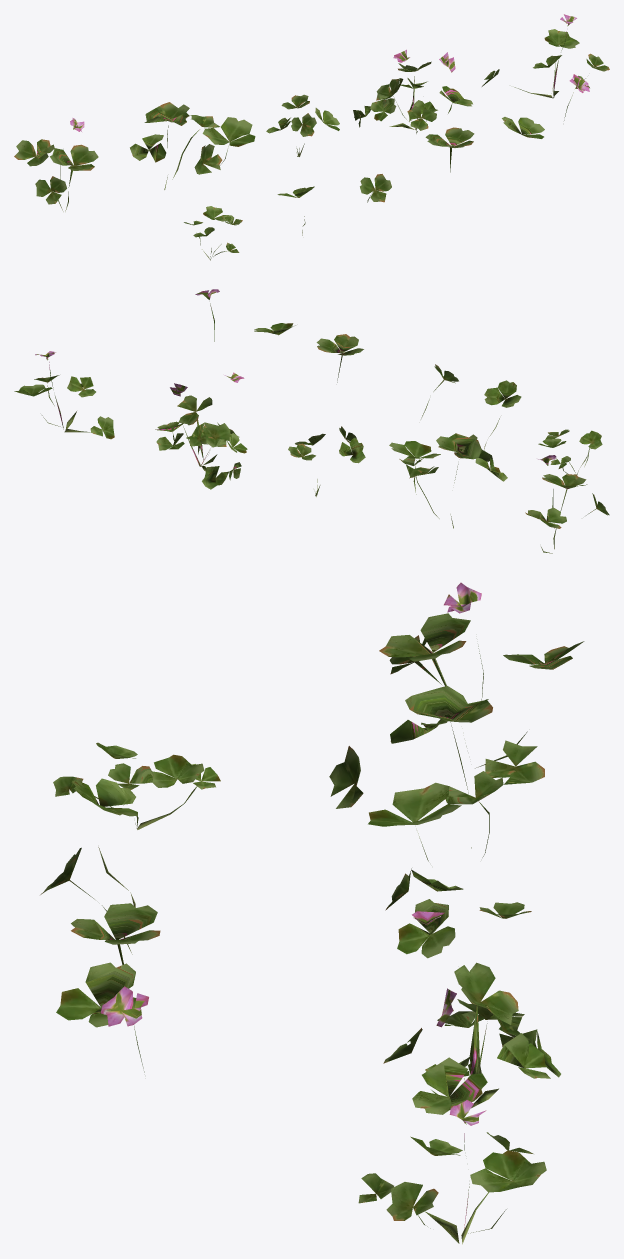
File: shrub_sorrel_01_lod1.glb
3 renders of one model, top to bottom at view 1: azimuth 30°, elevation 25°; view 2: azimuth 150°, elevation 25°; view 3: azimuth 270°, elevation 25°, orthographic. The views are drawn at different scales.
Visible parts, largest first — view 1: shrub_sorrel_01_b, shrub_sorrel_01_d, shrub_sorrel_01_a, shrub_sorrel_01_e, shrub_sorrel_01_c, shrub_sorrel_01_i, shrub_sorrel_01_f, shrub_sorrel_01_h, shrub_sorrel_01_j; view 2: shrub_sorrel_01_d, shrub_sorrel_01_b, shrub_sorrel_01_e, shrub_sorrel_01_a, shrub_sorrel_01_c, shrub_sorrel_01_f, shrub_sorrel_01_i, shrub_sorrel_01_g; view 3: shrub_sorrel_01_d, shrub_sorrel_01_b, shrub_sorrel_01_e, shrub_sorrel_01_a, shrub_sorrel_01_f, shrub_sorrel_01_c, shrub_sorrel_01_j, shrub_sorrel_01_i, shrub_sorrel_01_g, shrub_sorrel_01_k.
Boxes of the visible parts, x1,y1,x2,y2 form: shrub_sorrel_01_b: [130, 102, 255, 189]; shrub_sorrel_01_d: [353, 49, 472, 133]; shrub_sorrel_01_a: [14, 118, 98, 211]; shrub_sorrel_01_e: [482, 14, 609, 98]; shrub_sorrel_01_c: [266, 94, 339, 156]; shrub_sorrel_01_i: [425, 127, 474, 172]; shrub_sorrel_01_f: [184, 206, 242, 260]; shrub_sorrel_01_h: [360, 174, 391, 202]; shrub_sorrel_01_j: [502, 117, 544, 138]; shrub_sorrel_01_d: [155, 372, 247, 489]; shrub_sorrel_01_b: [389, 433, 507, 528]; shrub_sorrel_01_e: [14, 351, 114, 439]; shrub_sorrel_01_a: [525, 455, 609, 553]; shrub_sorrel_01_c: [288, 426, 365, 496]; shrub_sorrel_01_f: [538, 429, 602, 475]; shrub_sorrel_01_i: [316, 334, 363, 382]; shrub_sorrel_01_g: [484, 380, 521, 450]; shrub_sorrel_01_d: [383, 911, 560, 1114]; shrub_sorrel_01_b: [329, 686, 544, 861]; shrub_sorrel_01_e: [358, 1100, 546, 1244]; shrub_sorrel_01_a: [379, 582, 584, 768]; shrub_sorrel_01_f: [53, 742, 220, 829]; shrub_sorrel_01_c: [385, 868, 531, 958]; shrub_sorrel_01_j: [56, 962, 136, 1027]; shrub_sorrel_01_i: [71, 903, 160, 964]; shrub_sorrel_01_g: [73, 778, 137, 906]; shrub_sorrel_01_k: [100, 986, 148, 1072].
Size of the model in its own units: 0.3518 by 0.057 by 0.1464.
Materials: 1 (1 with a texture image).
